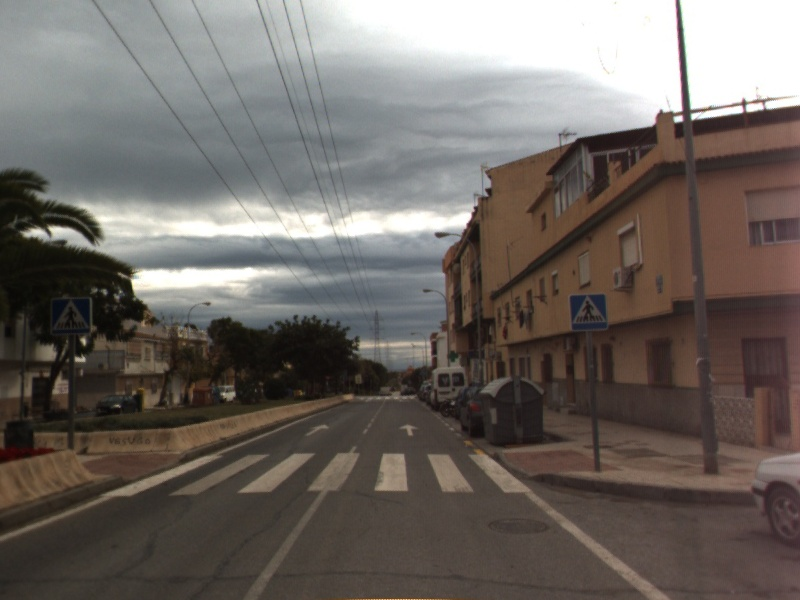STRAIGHT: (303, 422, 332, 438), (397, 422, 422, 438)
